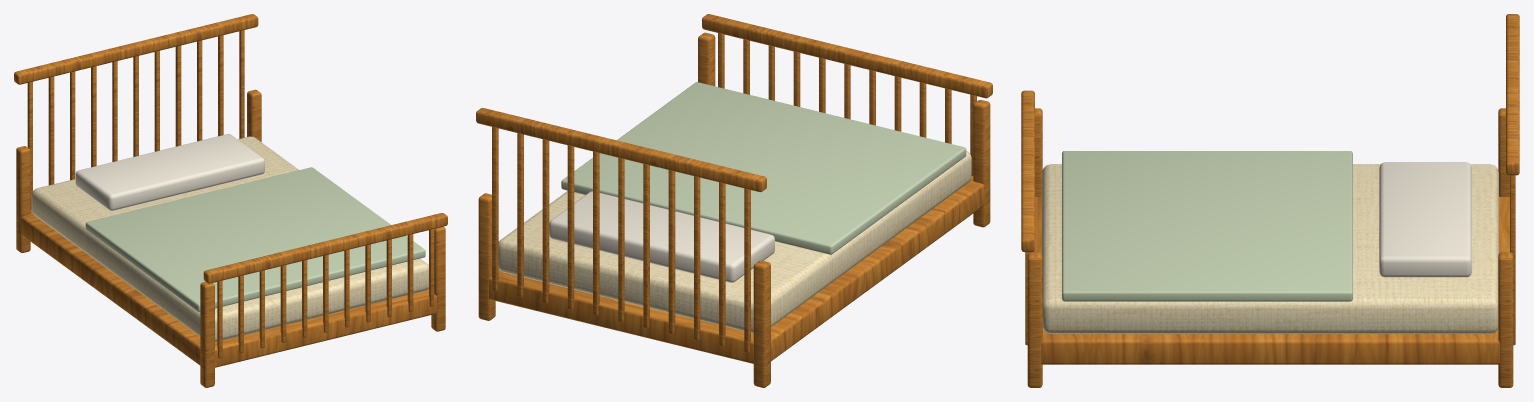
Rendered from spindle-bed.glb.
3 renders of one model, left to right at view 1: azimuth 30°, elevation 25°; view 2: azimuth 150°, elevation 25°; view 3: azimuth 270°, elevation 25°, orthographic. The views are drawn at different scales.
Visible parts, largest first — view 1: spindle-bed; view 2: spindle-bed; view 3: spindle-bed.
Part boxes in pixels (x1,y1,x2,y2): spindle-bed: [14, 14, 447, 387]; spindle-bed: [476, 14, 992, 387]; spindle-bed: [1021, 14, 1519, 387].
Size of the model in its own units: 1.5 by 1.05 by 2.1.
Materials: 4 (2 with a texture image).
